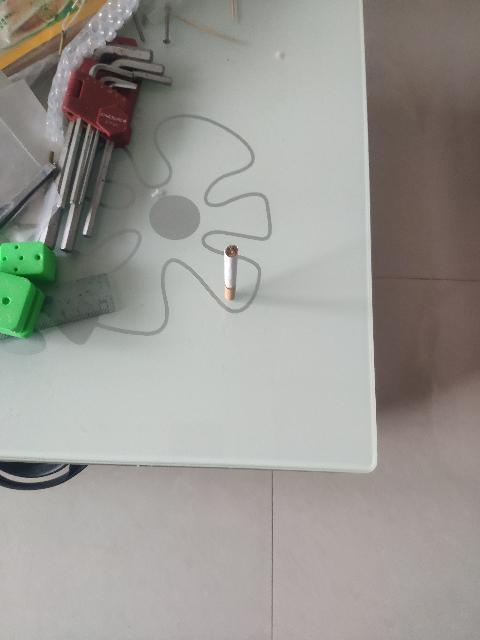Cigarette: (226, 244, 238, 302)
